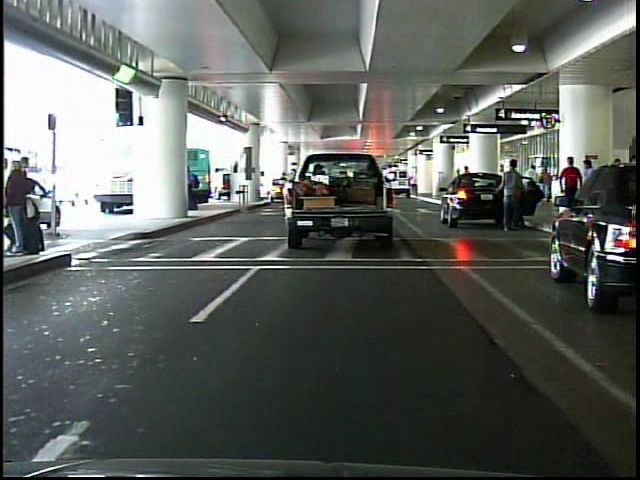person: (491, 153, 530, 236), (559, 155, 580, 187)
